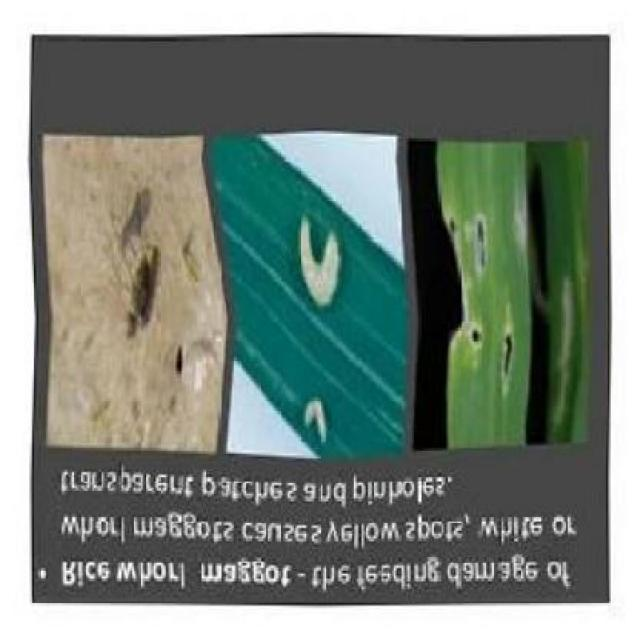whorl-maggot: (291, 212, 349, 314), (295, 392, 334, 445)
